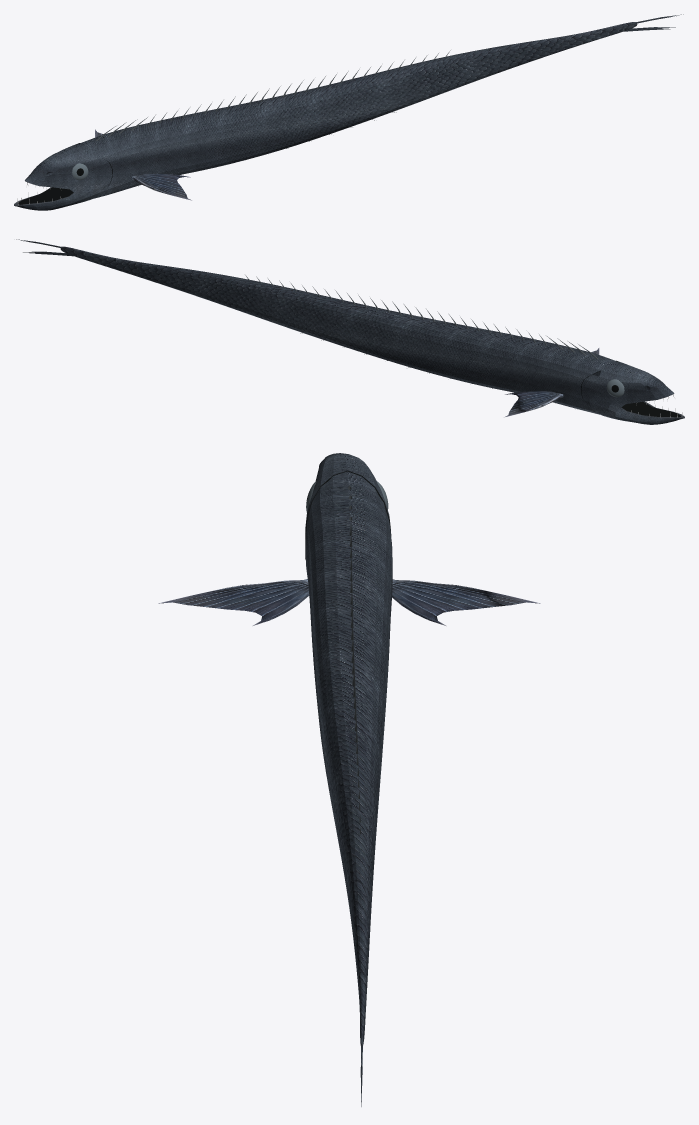
The model's file is Sulu Sea Ribbonfish.glb.
3 views of the same model, one above another, from view 1: azimuth 30°, elevation 25°; view 2: azimuth 150°, elevation 25°; view 3: azimuth 270°, elevation 25° (orthographic). The views are drawn at different scales.
Parts seen in each view (by area): view 1: Body, Left Fin; view 2: Body, Right Fin; view 3: Body, Left Fin, Right Fin.
Part boxes in pixels (<box>): Body: <box>14,14,683,210</box>; Left Fin: <box>131,173,191,200</box>; Body: <box>16,239,684,424</box>; Right Fin: <box>504,391,563,417</box>; Body: <box>305,453,392,1106</box>; Left Fin: <box>158,579,309,625</box>; Right Fin: <box>392,579,540,625</box>.
Bounding box in the file's own units: 3.11 × 0.3053 × 0.7809.
Materials: 6 (2 with a texture image).
